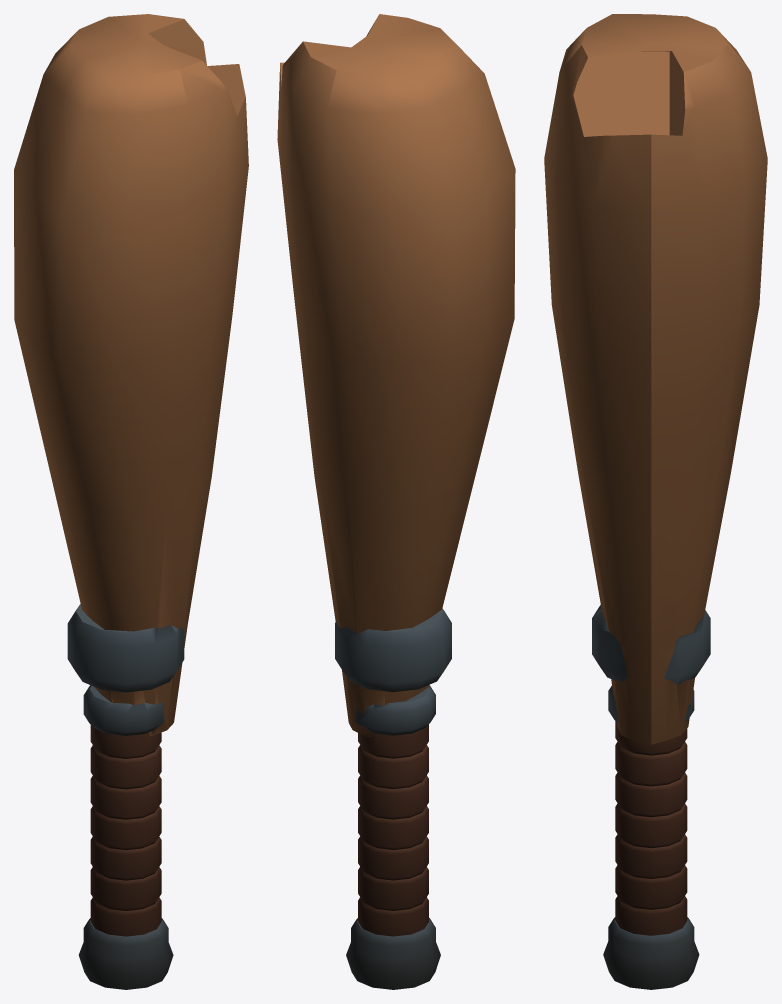
File: club_wood_old.glb
3 views of the same model, side by side, from view 1: azimuth 30°, elevation 25°; view 2: azimuth 150°, elevation 25°; view 3: azimuth 270°, elevation 25° (orthographic).
Visible parts, largest first — view 1: Item; view 2: Item; view 3: Item.
Boxes of the visible parts, bbox=[...] form: Item: bbox=[14, 14, 248, 989]; Item: bbox=[277, 14, 515, 989]; Item: bbox=[544, 14, 767, 989].
Size of the model in its own units: 0.3108 by 1.32 by 0.2834.
2 materials, 2 textured.
